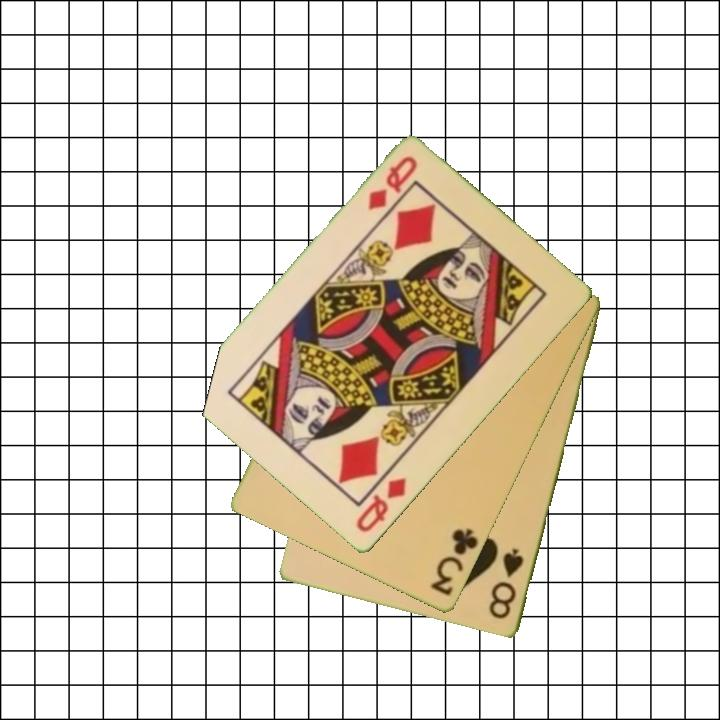3c: (426, 525, 482, 600)
8s: (485, 545, 527, 623)
Qd: (352, 474, 410, 536), (364, 152, 421, 214)
